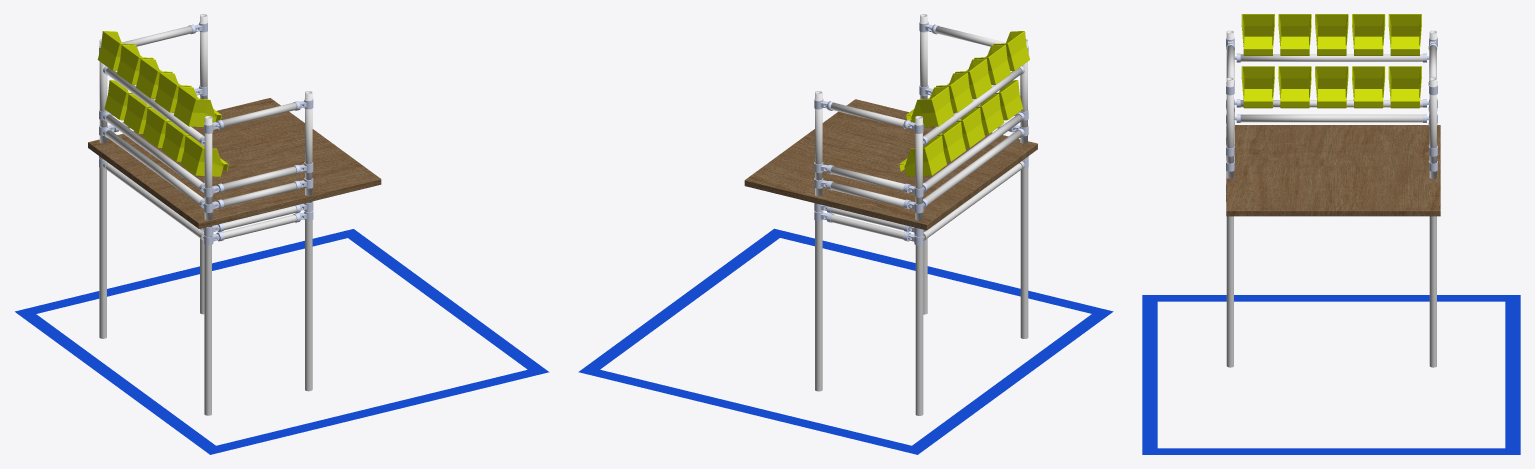
File: assembly_station.dae
3 views of the same model, side by side, from view 1: azimuth 30°, elevation 25°; view 2: azimuth 150°, elevation 25°; view 3: azimuth 270°, elevation 25° (orthographic). The views are drawn at different scales.
Visible parts, largest first — view 1: WorkStation_Desk, Plane.026, WorkStation_Holders, WorkStation_Top, WorkStation_Base; view 2: WorkStation_Desk, Plane.026, WorkStation_Holders, WorkStation_Top, WorkStation_Base; view 3: WorkStation_Desk, WorkStation_Holders, Plane.026, WorkStation_Top, WorkStation_Base.
Part boxes in pixels (x1=…): WorkStation_Desk: x1=88, y1=98, x2=381, y2=228; Plane.026: x1=15, y1=229, x2=549, y2=454; WorkStation_Holders: x1=97, y1=31, x2=228, y2=176; WorkStation_Top: x1=99, y1=14, x2=312, y2=236; WorkStation_Base: x1=99, y1=158, x2=312, y2=415; WorkStation_Desk: x1=744, y1=99, x2=1037, y2=230; Plane.026: x1=578, y1=228, x2=1113, y2=454; WorkStation_Holders: x1=899, y1=31, x2=1029, y2=176; WorkStation_Top: x1=815, y1=14, x2=1027, y2=236; WorkStation_Base: x1=815, y1=158, x2=1028, y2=415; WorkStation_Desk: x1=1226, y1=125, x2=1440, y2=216; WorkStation_Holders: x1=1241, y1=14, x2=1421, y2=108; Plane.026: x1=1142, y1=295, x2=1520, y2=454; WorkStation_Top: x1=1226, y1=30, x2=1436, y2=178; WorkStation_Base: x1=1226, y1=216, x2=1436, y2=367.
Size of the model in its own units: 2 by 2 by 1.76.
Materials: 5 (1 with a texture image).
